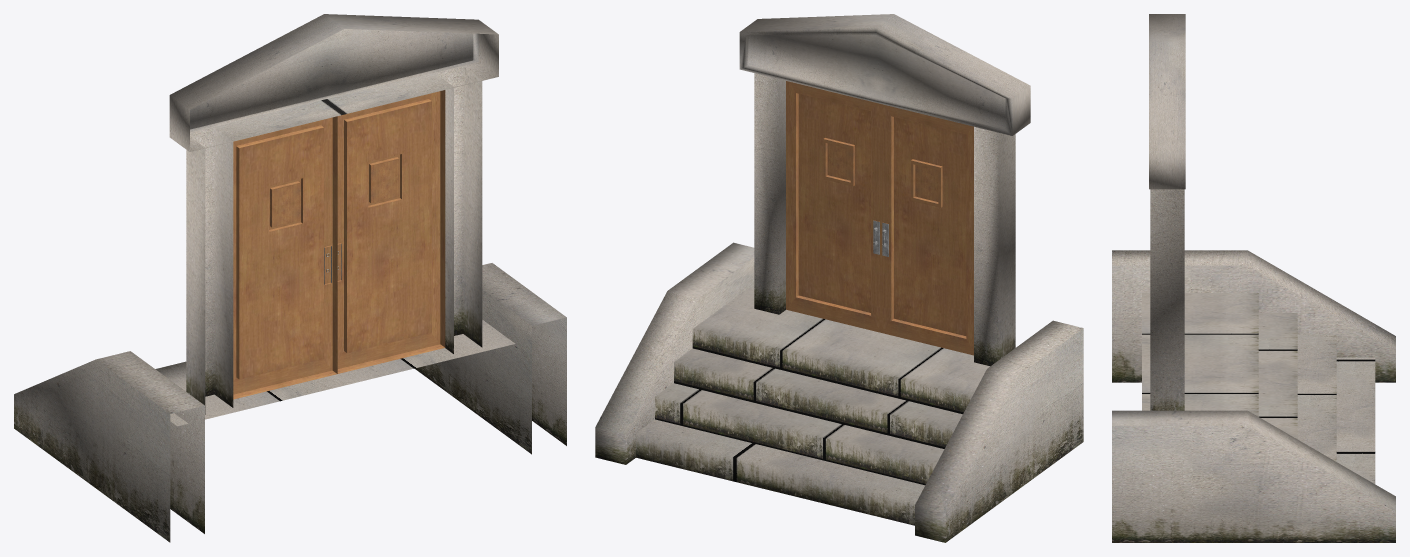
The model's file is Double_staircase_doorobj.obj.
3 views of the same model, side by side, from view 1: azimuth 30°, elevation 25°; view 2: azimuth 150°, elevation 25°; view 3: azimuth 270°, elevation 25° (orthographic). The views are drawn at different scales.
Visible parts, largest first — view 1: porta_Plane.006, Double_staircase_door_Plane.005, escada_Plane.004; view 2: escada_Plane.004, porta_Plane.006, Double_staircase_door_Plane.005; view 3: escada_Plane.004, Double_staircase_door_Plane.005.
Part boxes in pixels (left/top/right/bottom): porta_Plane.006: left=233, top=90, right=445, bottom=399; Double_staircase_door_Plane.005: left=169, top=14, right=498, bottom=414; escada_Plane.004: left=14, top=263, right=566, bottom=542; escada_Plane.004: left=595, top=242, right=1083, bottom=542; porta_Plane.006: left=786, top=81, right=973, bottom=355; Double_staircase_door_Plane.005: left=739, top=14, right=1030, bottom=366; escada_Plane.004: left=1112, top=250, right=1395, bottom=542; Double_staircase_door_Plane.005: left=1149, top=14, right=1185, bottom=410.
Size of the model in its own units: 3.56 by 3.88 by 2.43.
